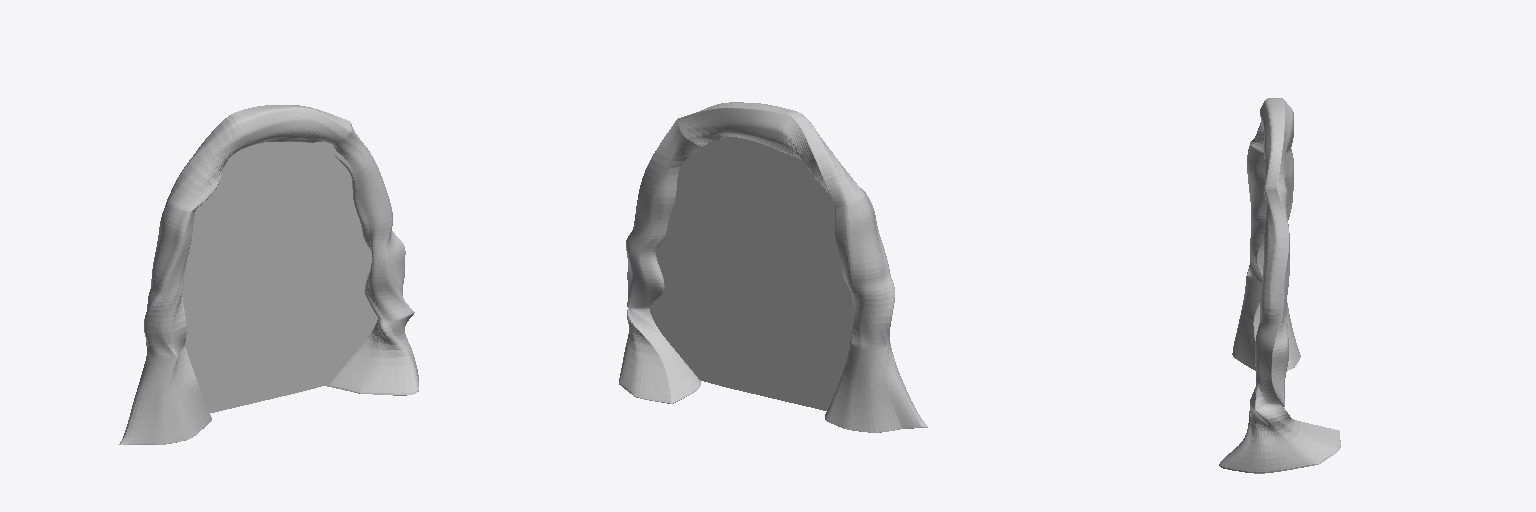
Rendered from Portal.obj.
3 views of the same model, side by side, from view 1: azimuth 30°, elevation 25°; view 2: azimuth 150°, elevation 25°; view 3: azimuth 270°, elevation 25° (orthographic).
Parts seen in each view (by area): view 1: Plane.001, Plane; view 2: Plane.001, Plane; view 3: Plane.
Part boxes in pixels (x1,y1,x2,y2): Plane.001: (182,142,377,412); Plane: (119,105,418,444); Plane.001: (649,137,854,410); Plane: (619,102,927,432); Plane: (1219,98,1340,473).
Bounding box in the file's own units: 17.27 × 16.44 × 6.15.